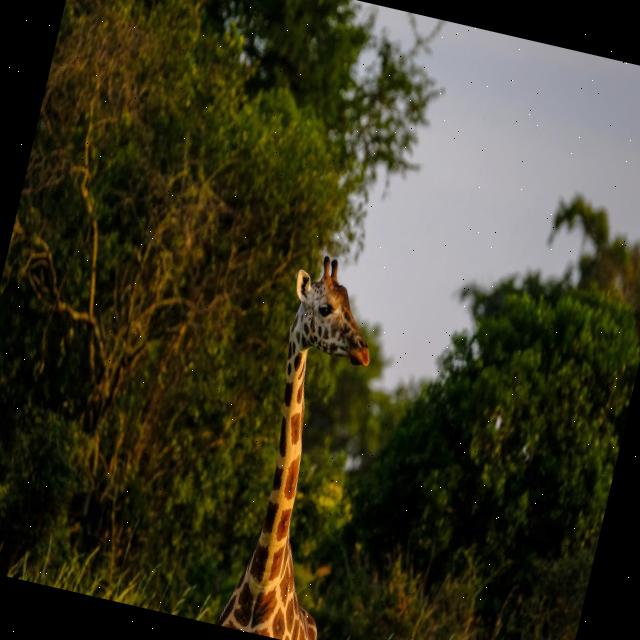Giraffe: (212, 245, 405, 640)
